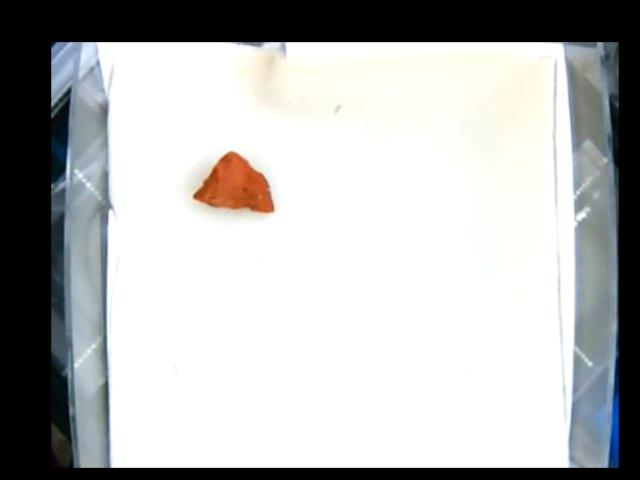Brisk: (193, 147, 276, 214)
